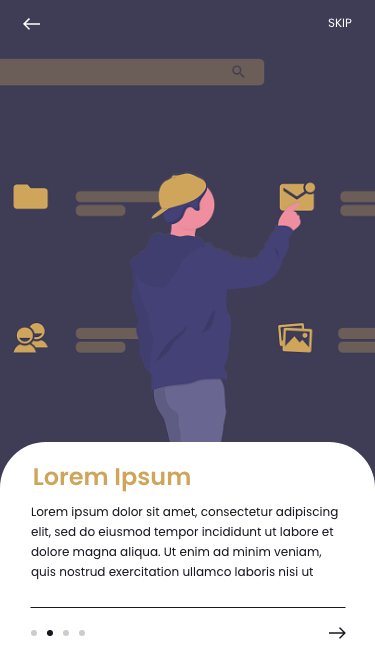Icon: (328, 626, 347, 640), (23, 18, 41, 32)
Image: (1, 1, 375, 443)
PageIndicator: (31, 629, 87, 638)
Text: (31, 506, 339, 580), (34, 467, 191, 493), (327, 18, 352, 29)
